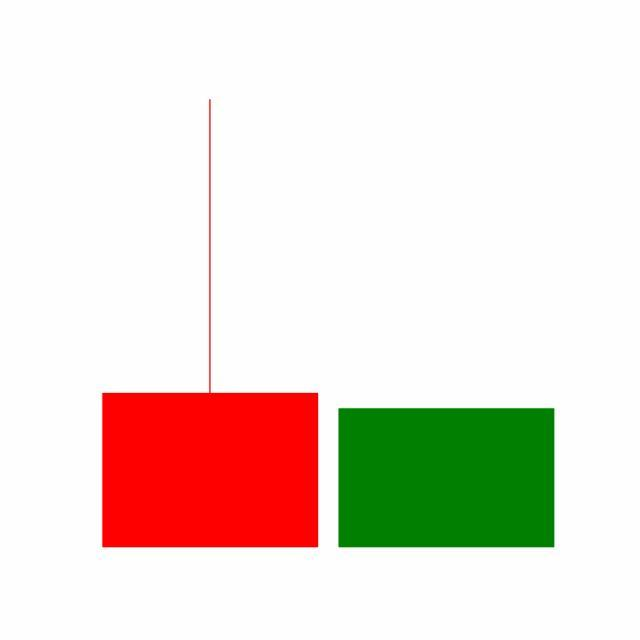Marubozu: (328, 406, 566, 549)
